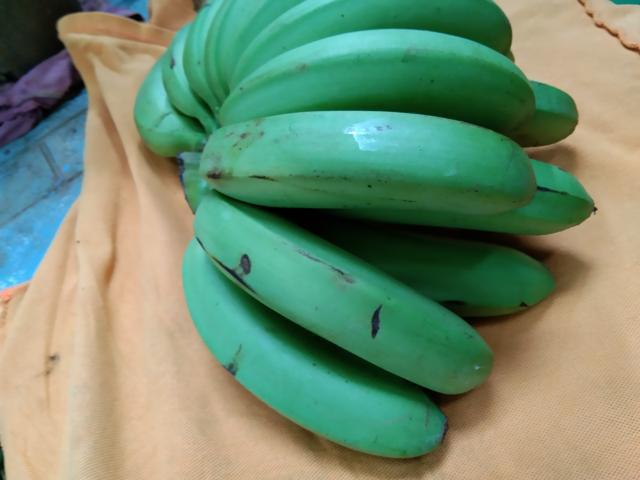freshunripe: (223, 24, 538, 130), (394, 209, 567, 320), (118, 44, 202, 144)
